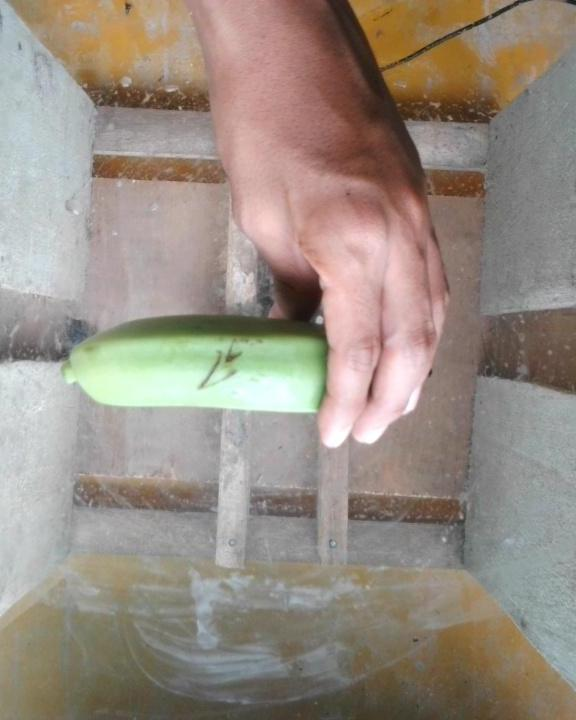CLASS B: (51, 304, 315, 424)
Class A: (191, 321, 259, 396)
